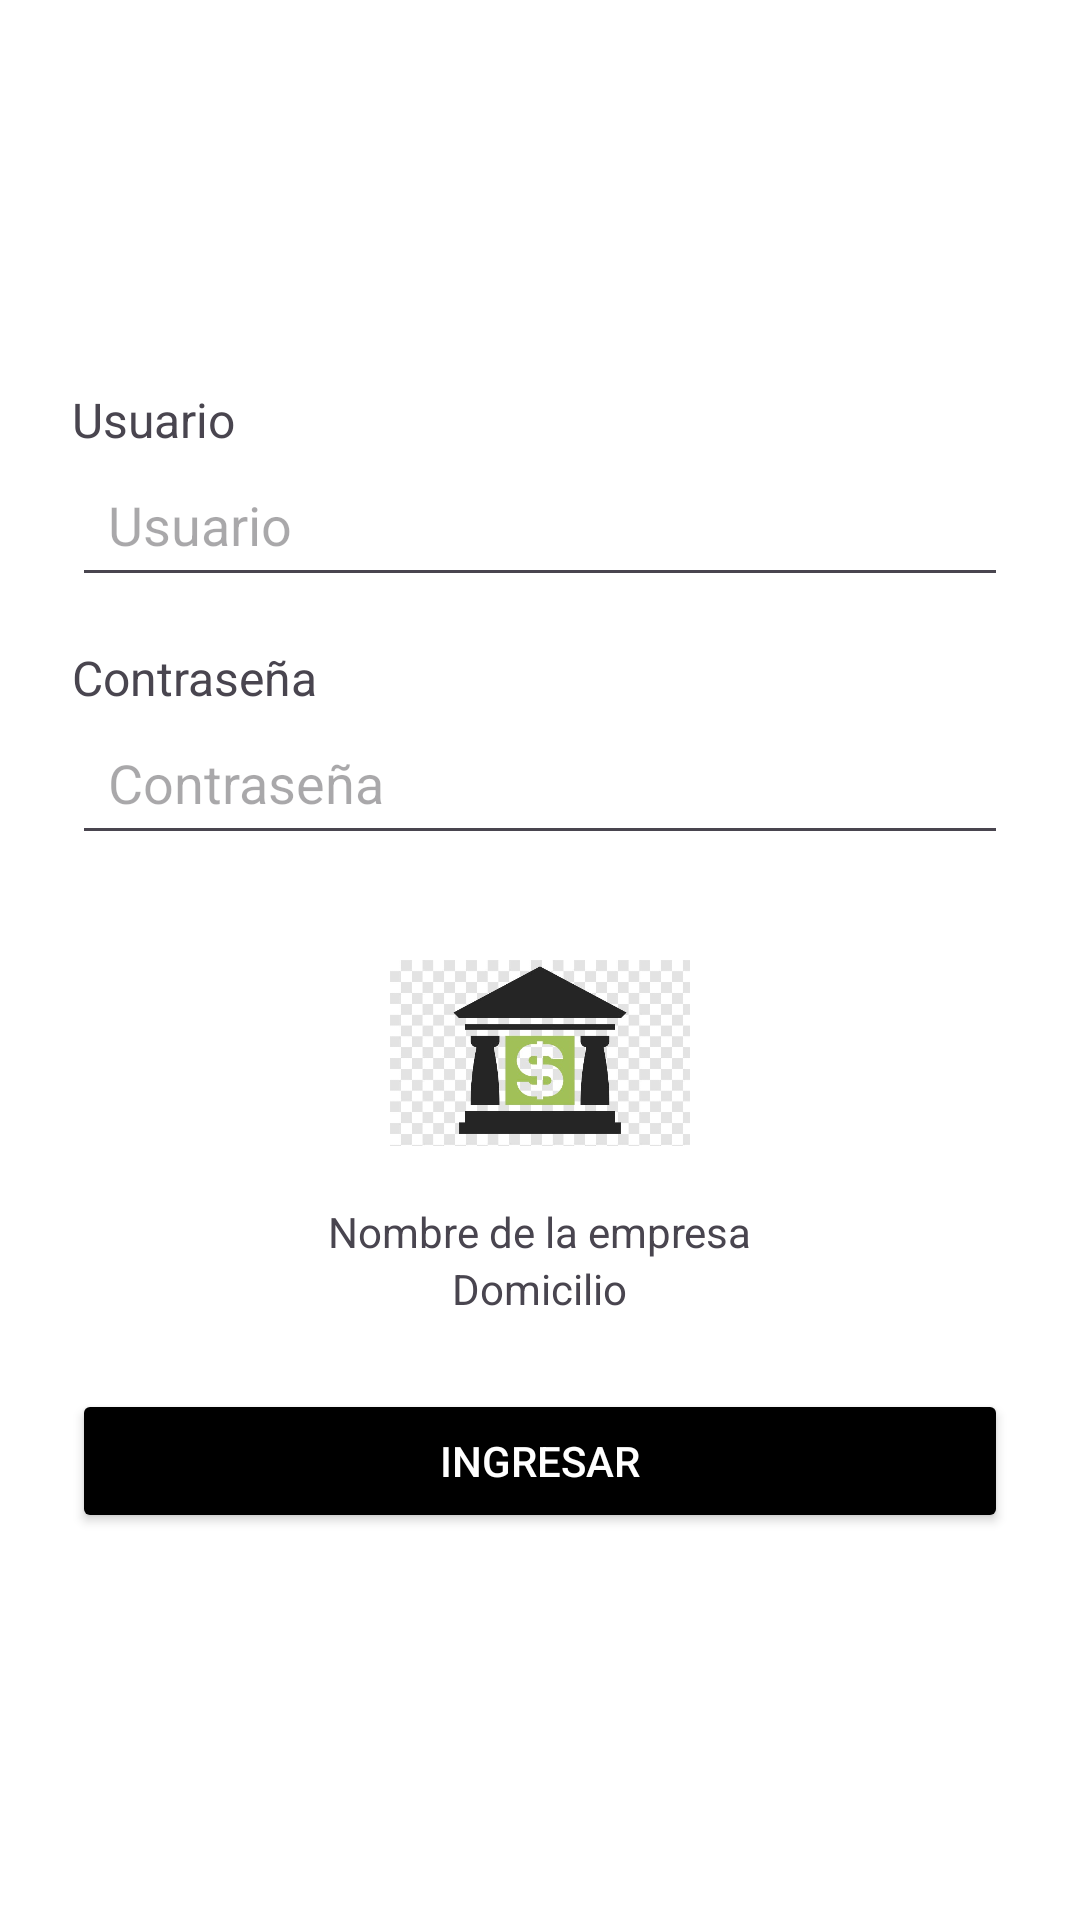

Screen size 1080*1920. Icon name, then its box in pixels as box(x1, y1, x2, y2):
banco: box(390, 960, 690, 1146)
